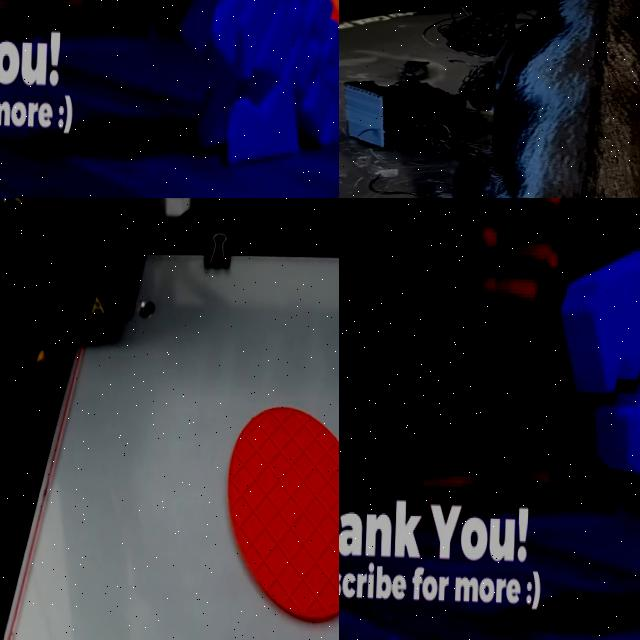spaghetti: (385, 0, 555, 164)
